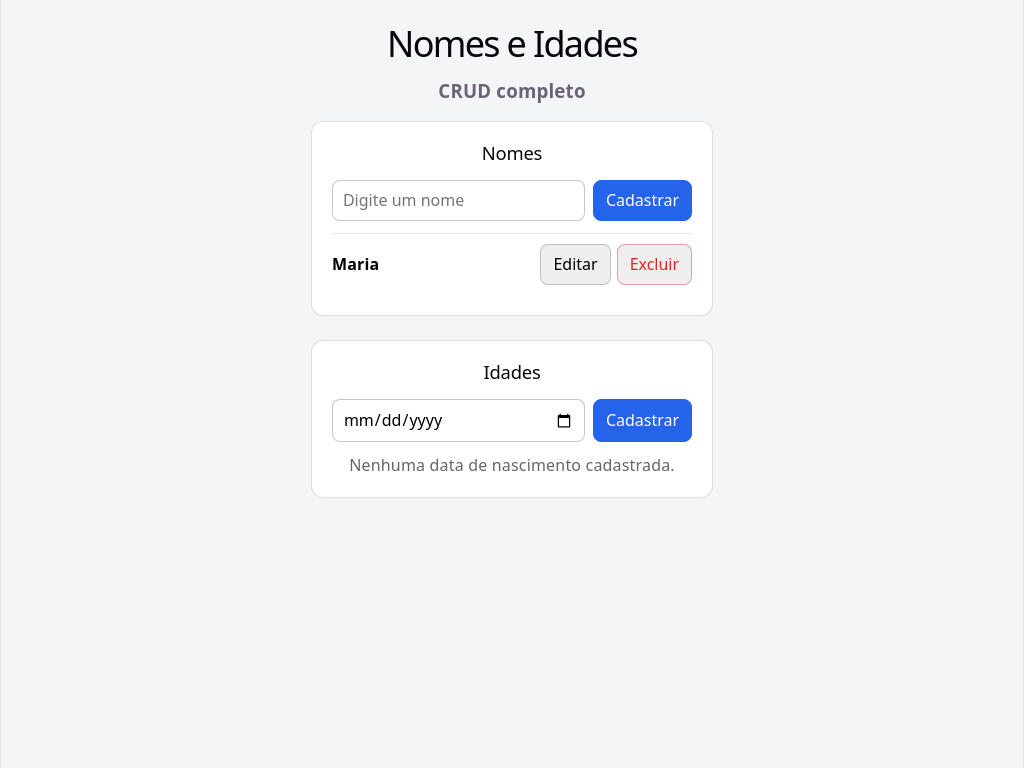
Test case: nomes (CRUD) › cancelar a edição mantém o valor original
Expected: the text "Maria" is shown, [332,253,379,276]
Click the button "Editar" at [576, 265], box [540,244,611,285]
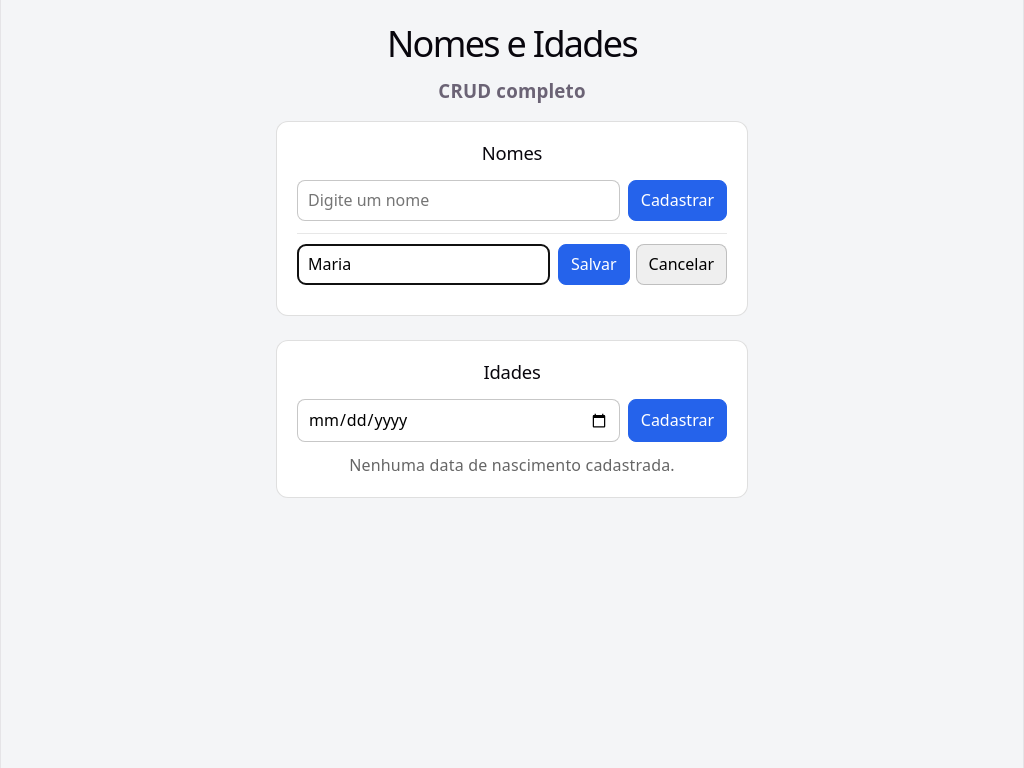
Type "XYZ" into the field named "Editar valor" at [424, 265], box [297,244,550,285]
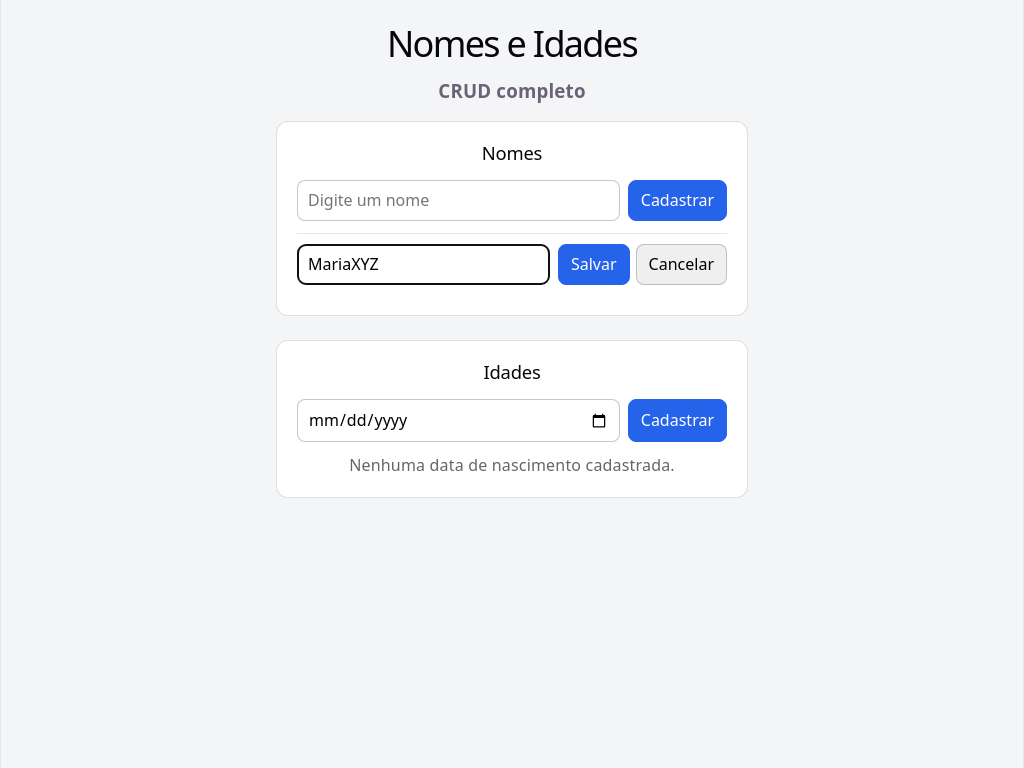
Click the button "Cancelar" at [681, 265], box [636,244,727,285]
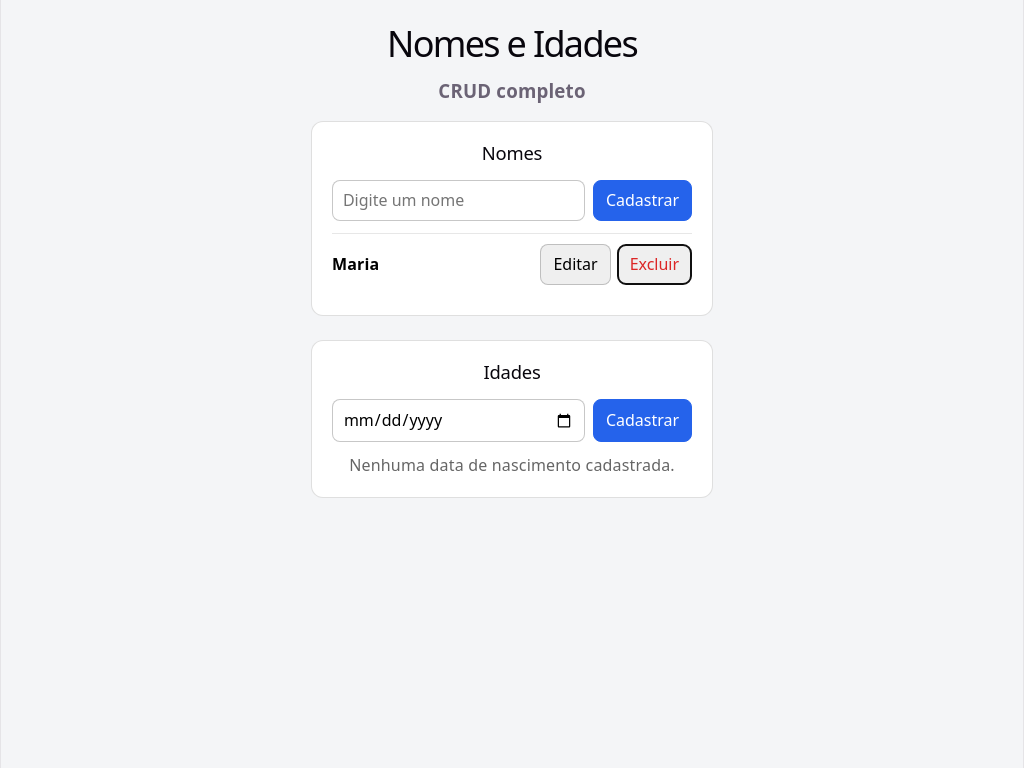
Result: the text "Maria" is shown at [332,253,379,276]
